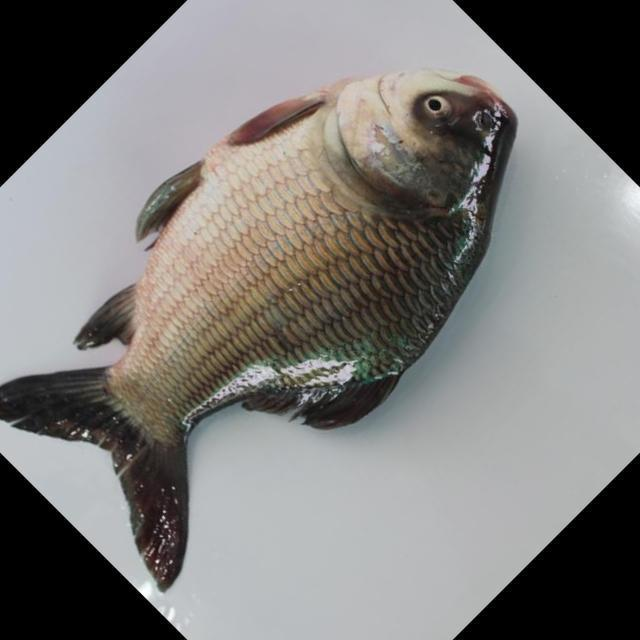Catla: (2, 64, 537, 599)
